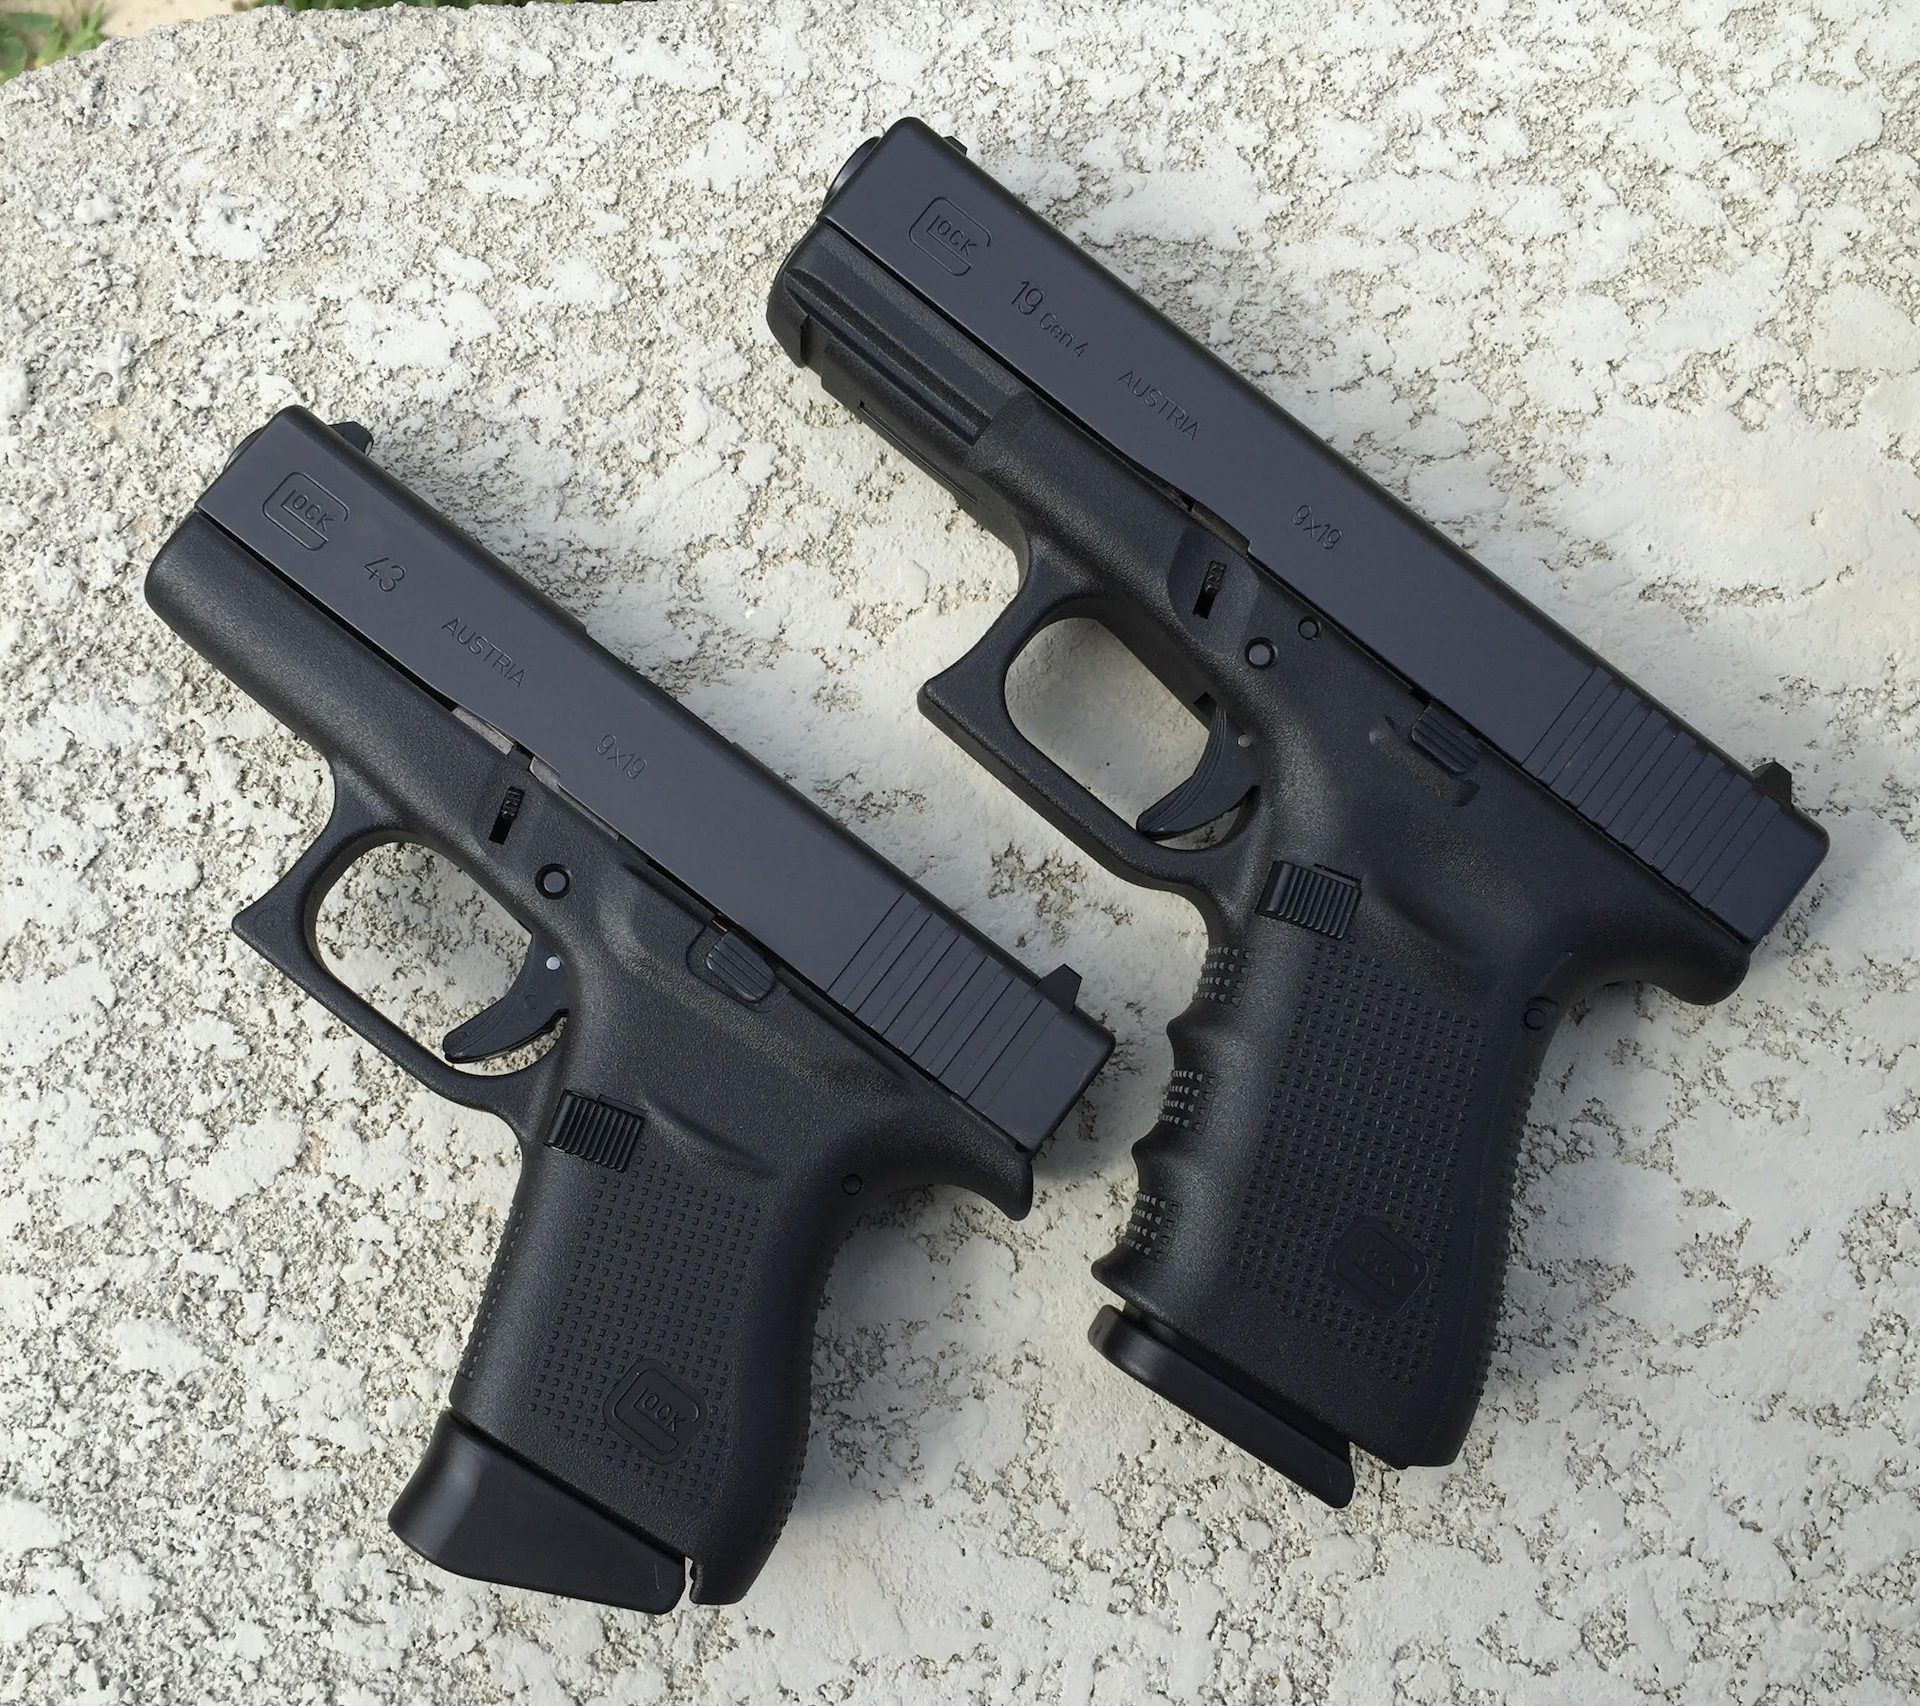pistol: (762, 112, 1833, 1512), (140, 405, 1121, 1624)
